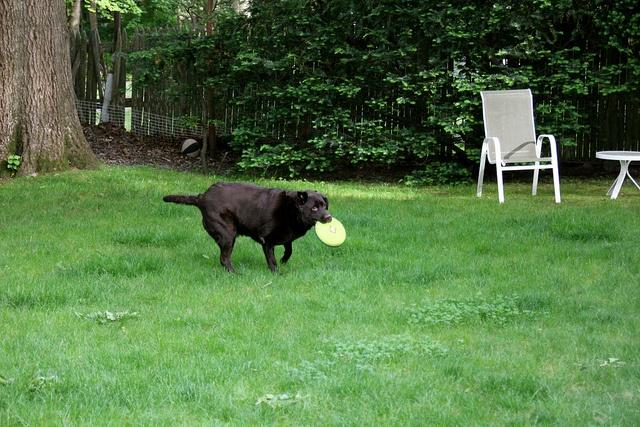Kursi: (474, 88, 560, 203)
